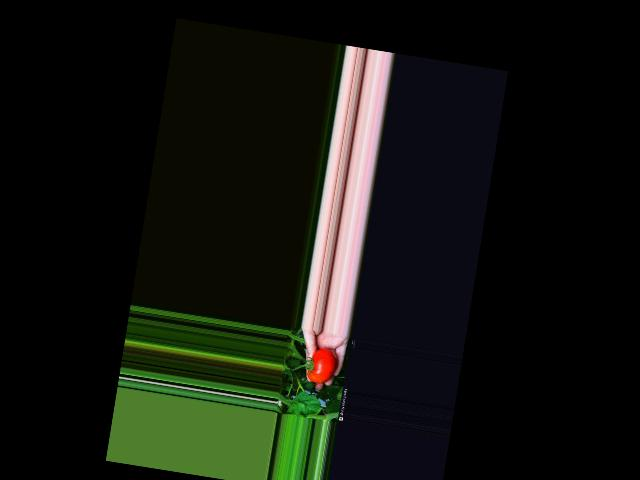tomato: (306, 346, 339, 385)
